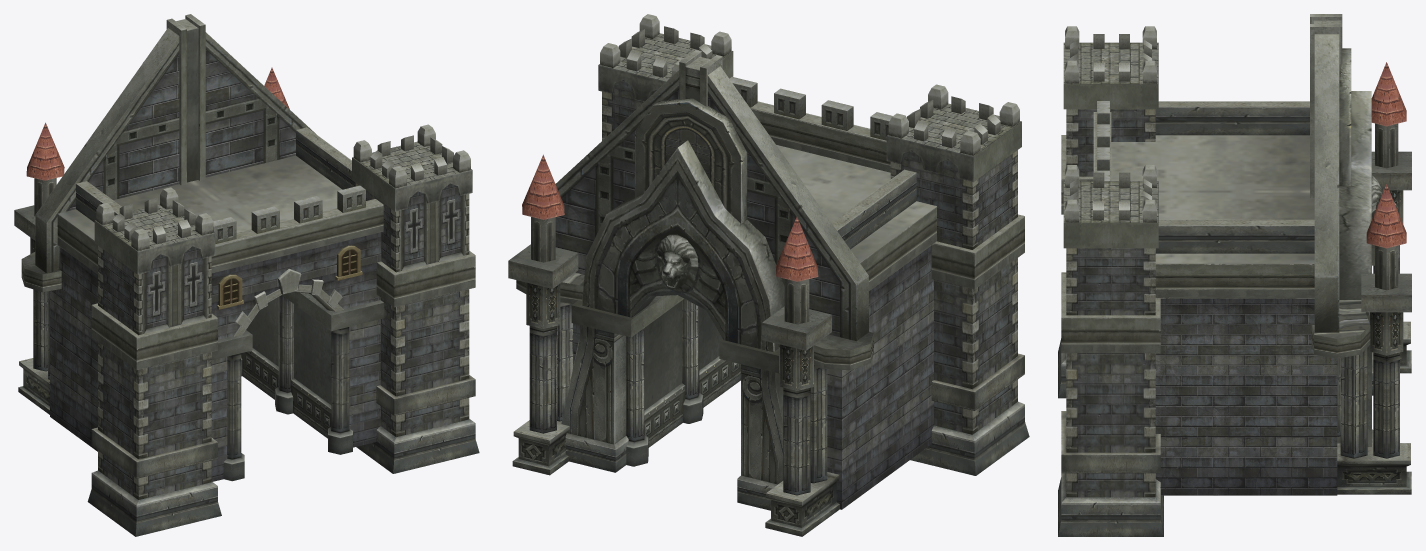
File: SC_guowangchengbao_07.FBX
3 renders of one model, left to right at view 1: azimuth 30°, elevation 25°; view 2: azimuth 150°, elevation 25°; view 3: azimuth 270°, elevation 25°, orthographic. The views are drawn at different scales.
Visible parts, largest first — view 1: SC_guowangchengbao_07; view 2: SC_guowangchengbao_07; view 3: SC_guowangchengbao_07.
Part boxes in pixels (<box>): SC_guowangchengbao_07: <box>14,14,479,536</box>; SC_guowangchengbao_07: <box>508,14,1029,536</box>; SC_guowangchengbao_07: <box>1058,14,1411,536</box>.
Size of the model in its own units: 1854 by 1977 by 1496.
